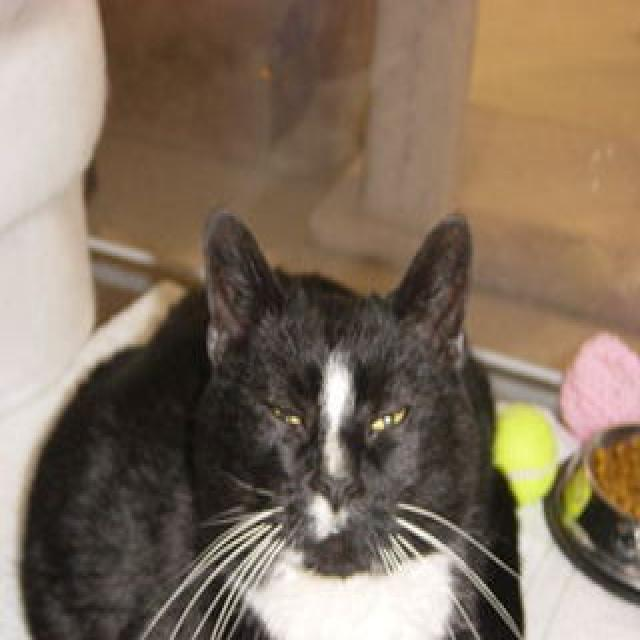Cats: (16, 205, 530, 638)
